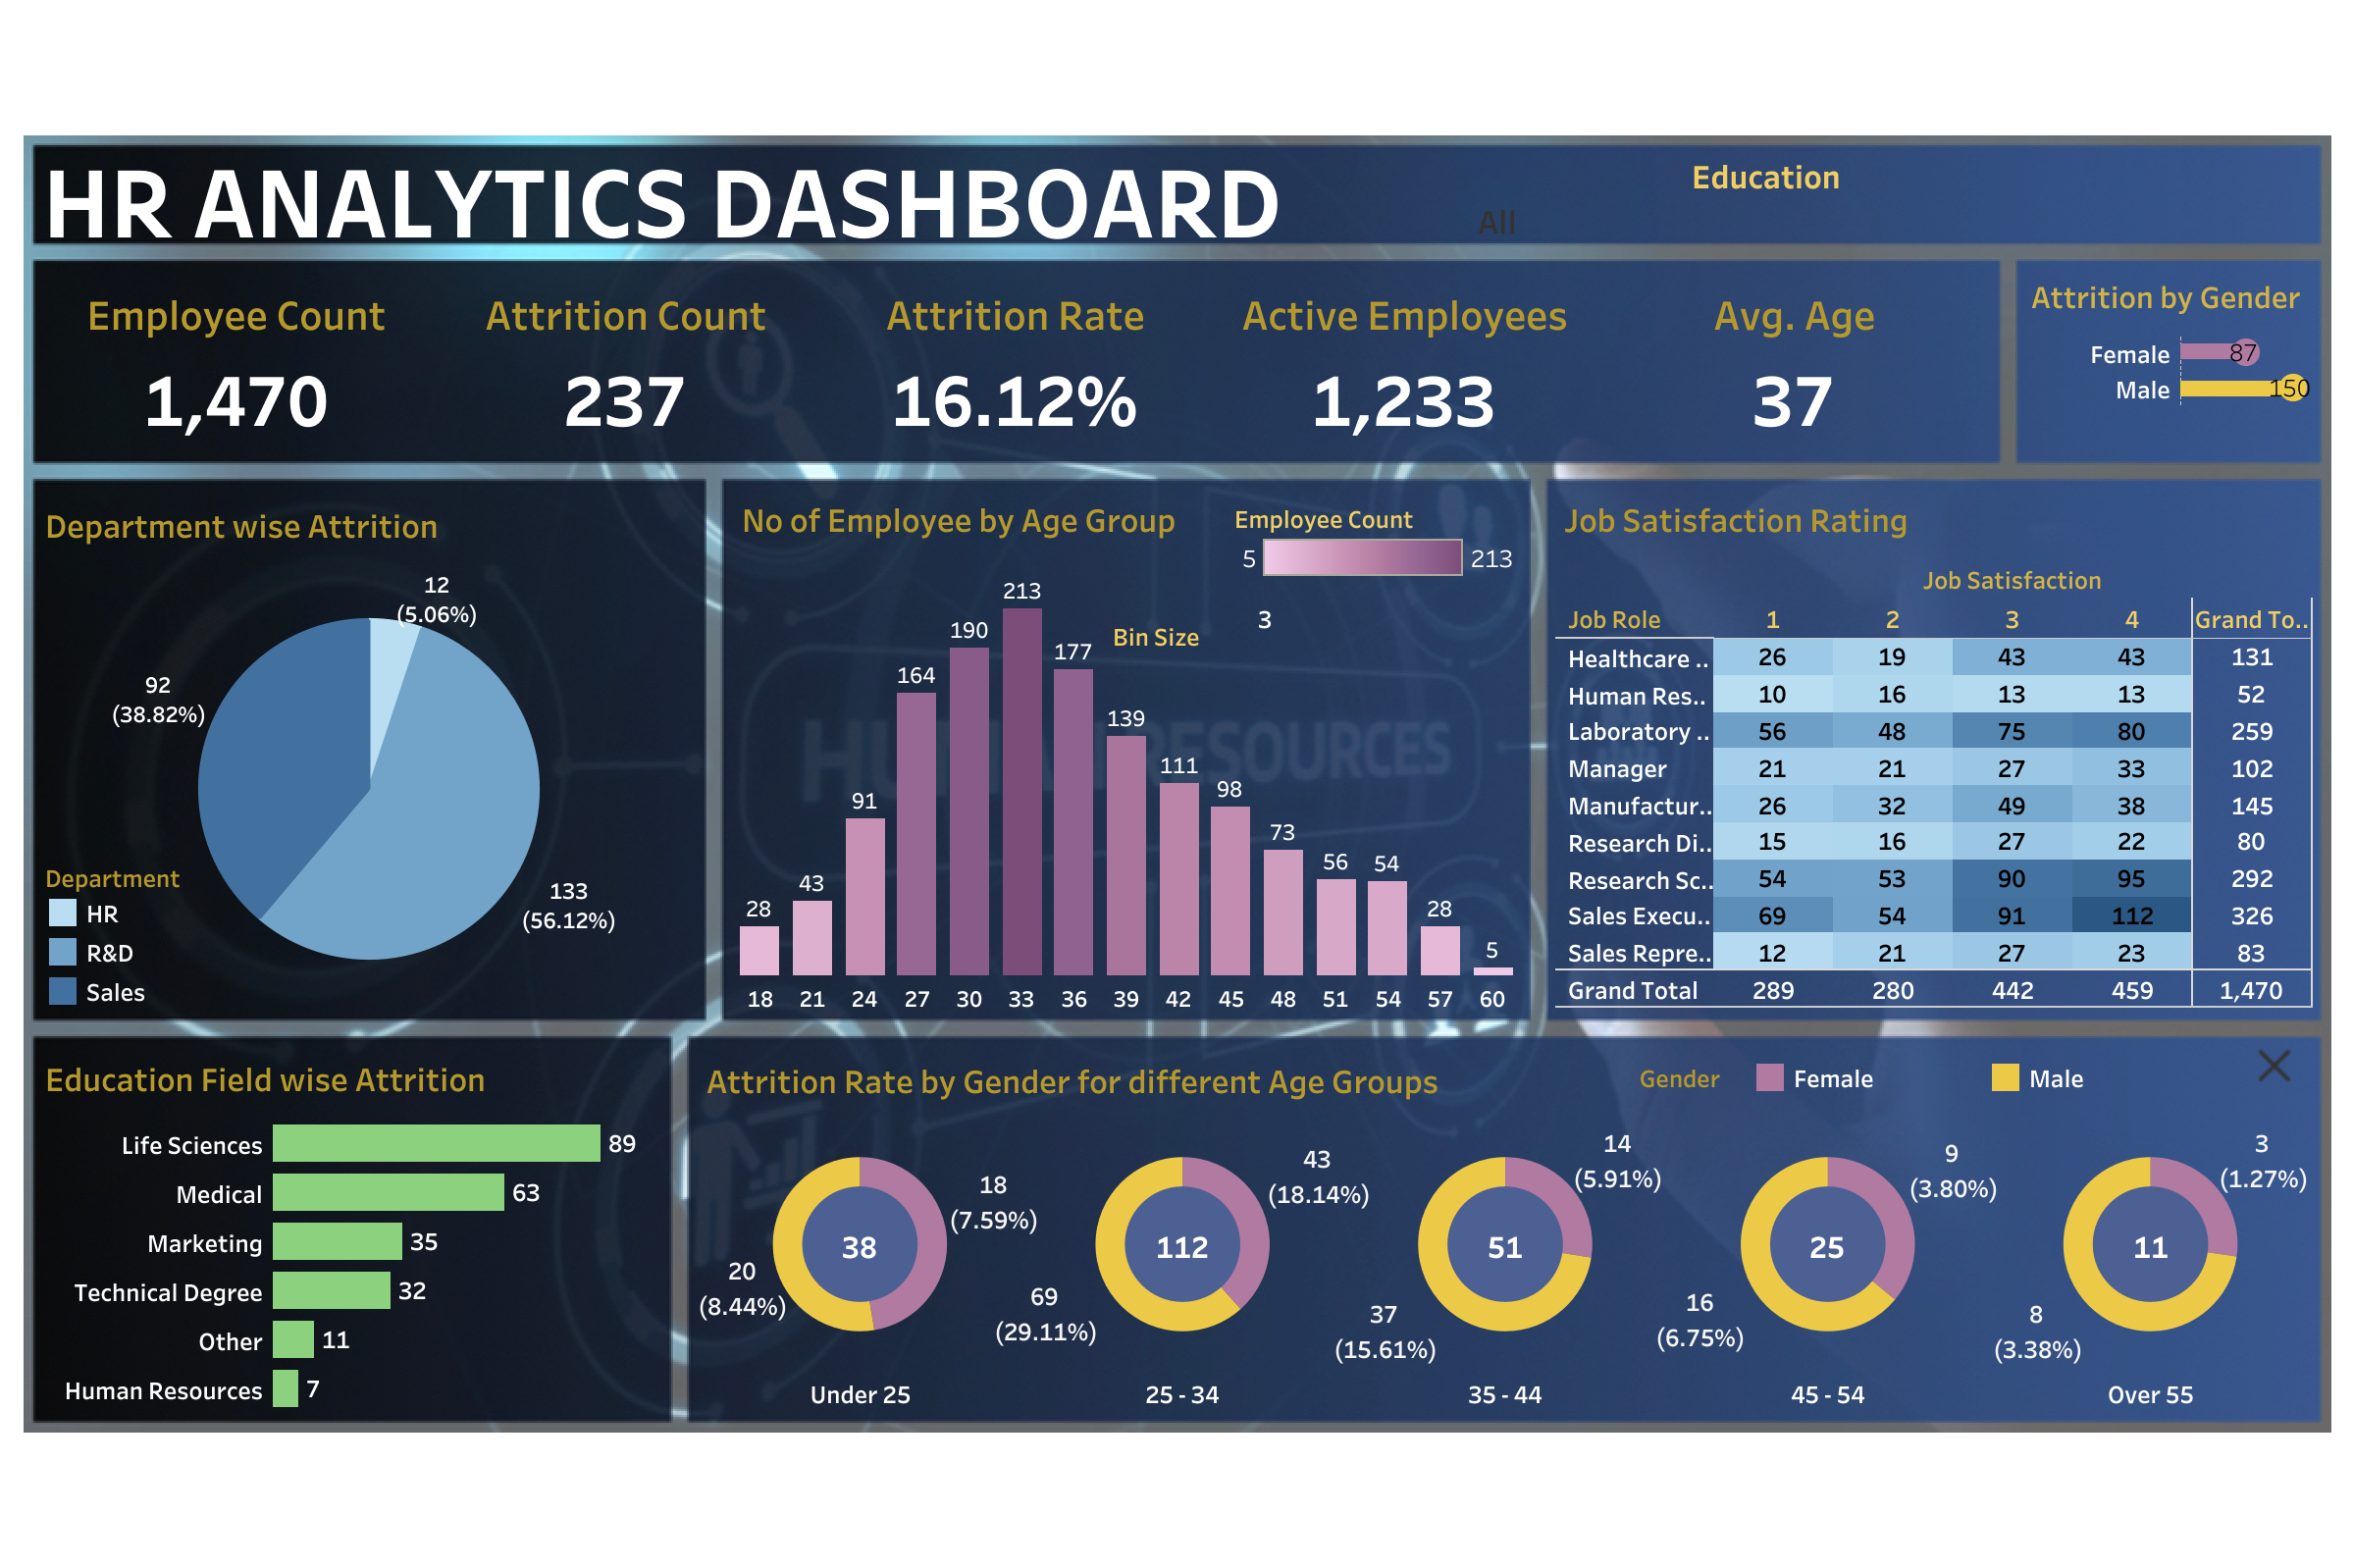

This screenshot's page, from the dashboard's own definition file:
{"tool":"tableau","page":{"name":"HR ANALYTICS DASHBOARD","canvas":[1200,800],"ordinal":0},"visuals":[{"type":"image","param":"Image/HR background.png.001.jpeg","box":[8,8,1184,784]},{"type":"filter","title":"Department wise Attrition","param":"[federated.0l4qwp509zu7h51fmvyvz0gevnox].[none:Education:nk]","box":[751,77,298,50]},{"type":"text","box":[19,78,789,45]},{"type":"worksheet","title":"KPI","mark":"Automatic","box":[21,134,993,98]},{"type":"worksheet","title":"Attrition by Gender","mark":"Automatic","rows":["Gender"],"cols":["Calculation_2874000306093408256","Calculation_2874000306093408256"],"box":[1031,134,148,94]},{"type":"worksheet","title":"No of Employee by Age Group","mark":"Automatic","rows":["Employee Count"],"cols":["Age (bin)"],"box":[374,247,400,270]},{"type":"worksheet","title":"Job Satisfaction Rating","mark":"Square","rows":["Job Role"],"cols":["Job Satisfaction"],"box":[793,247,386,267]},{"type":"worksheet","title":"Department wise Attrition","mark":"Pie","box":[19,250,338,266]},{"type":"legend","title":"No of Employee by Age Group","param":"[federated.0l4qwp509zu7h51fmvyvz0gevnox].[sum:Employee Count:qk]","box":[629,251,147,44]},{"type":"parameter","param":"[Parameters].[Parameter 1]","box":[567,306,206,36]},{"type":"legend","title":"Department wise Attrition","param":"[federated.0l4qwp509zu7h51fmvyvz0gevnox].[none:Department:nk]","box":[22,436,109,78]},{"type":"dashboard-object","box":[1147,531,24,24]},{"type":"worksheet","title":"Education Field wise Attrition","mark":"Automatic","rows":["Education Field"],"cols":["Calculation_2874000306093408256"],"box":[19,532,319,188]},{"type":"worksheet","title":"Attrition Rate by Gender for different Age Groups","mark":"Pie","rows":["Calculation_3017271069481304065","Calculation_3017271069481771011"],"cols":["CF_age band"],"box":[356,533,822,186]},{"type":"legend","title":"Attrition Rate by Gender for different Age Groups","param":"[federated.0l4qwp509zu7h51fmvyvz0gevnox].[none:Gender:nk]","box":[820,539,327,23]}]}

Visuals, with their boxes in screenshot pixels (x1, y1, x2, y2), scaled from the page's 1200x800 canvas onto the 2353x1568 screenshot:
image: 16,16,2337,1552
"Department wise Attrition" filter: 1473,151,2057,249
text: 37,153,1585,241
"KPI" worksheet: 41,263,1988,454
"Attrition by Gender" worksheet: 2021,263,2312,446
"No of Employee by Age Group" worksheet: 733,484,1518,1014
"Job Satisfaction Rating" worksheet (Square marks): 1555,484,2312,1008
"Department wise Attrition" worksheet (Pie marks): 37,490,700,1012
"No of Employee by Age Group" legend: 1233,492,1522,578
parameter: 1112,600,1516,670
"Department wise Attrition" legend: 43,855,257,1008
dashboard-object: 2249,1041,2296,1088
"Education Field wise Attrition" worksheet: 37,1043,662,1411
"Attrition Rate by Gender for different Age Groups" worksheet (Pie marks): 698,1045,2310,1409
"Attrition Rate by Gender for different Age Groups" legend: 1608,1057,2249,1102
